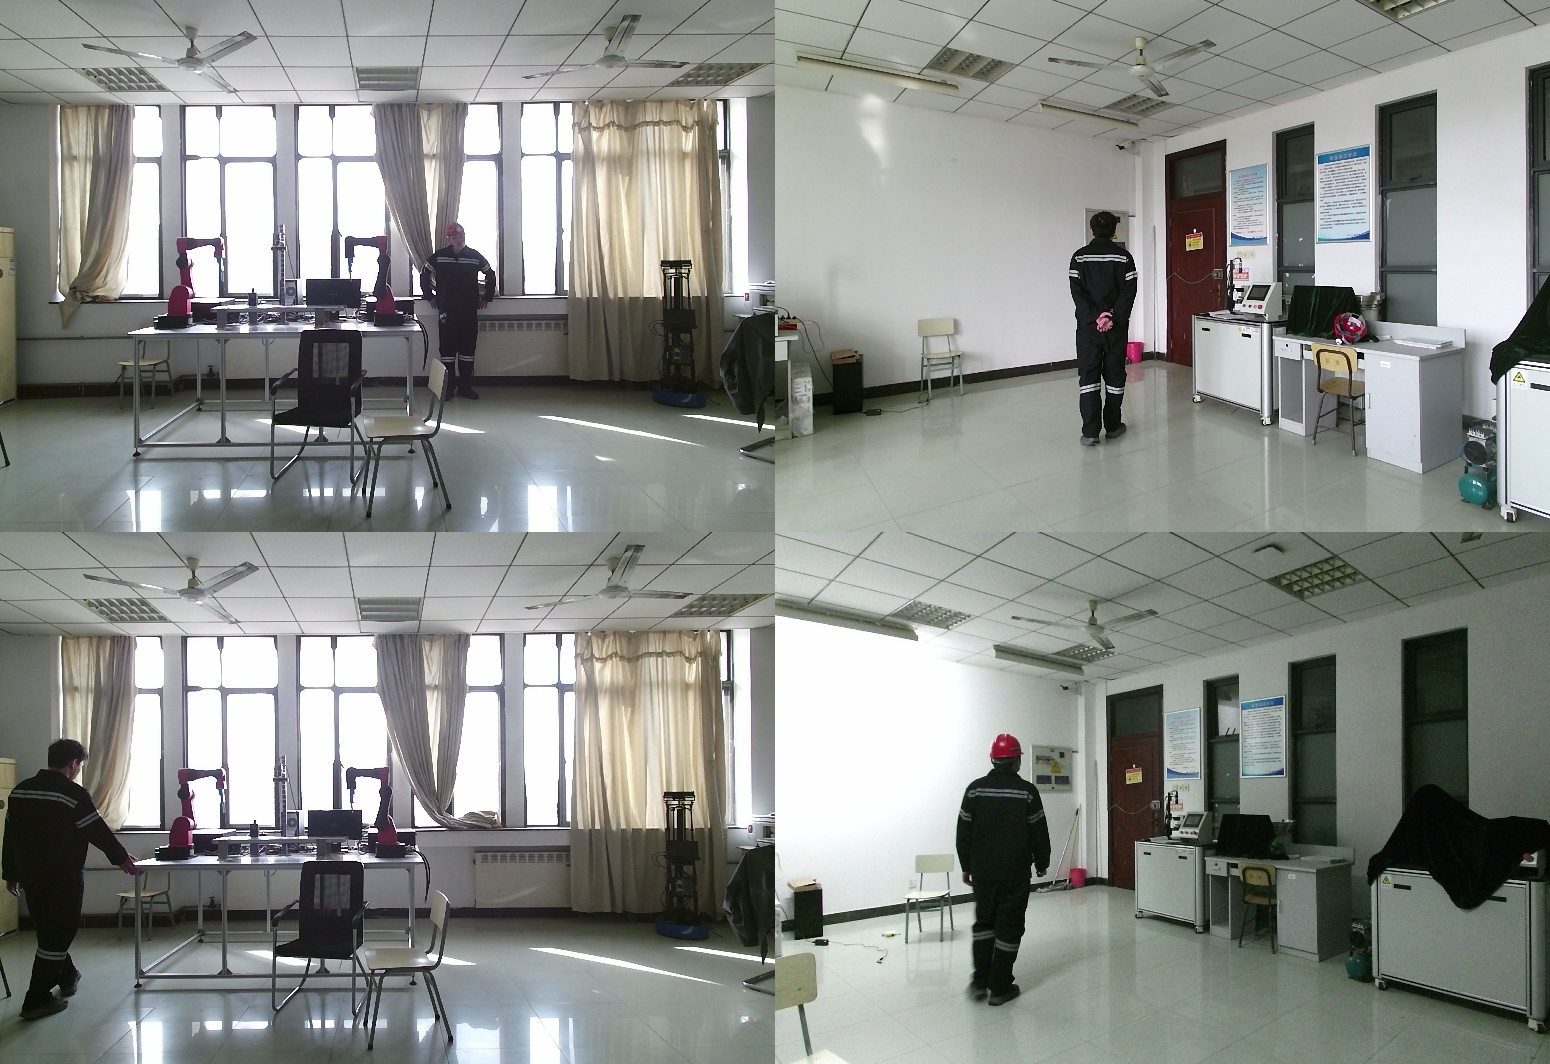person: (1, 738, 140, 1015), (951, 733, 1065, 1006), (1063, 211, 1142, 450), (420, 224, 499, 404)
